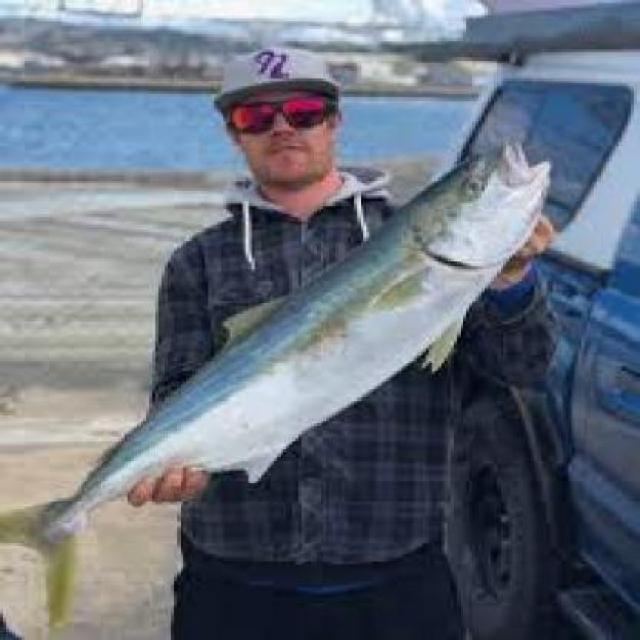Kingfish: (0, 128, 560, 628)
